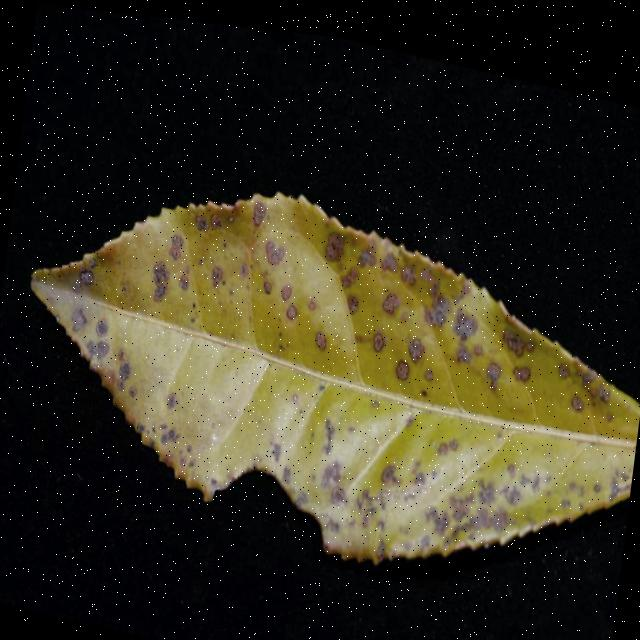Tea red rust: (6, 135, 640, 551)
